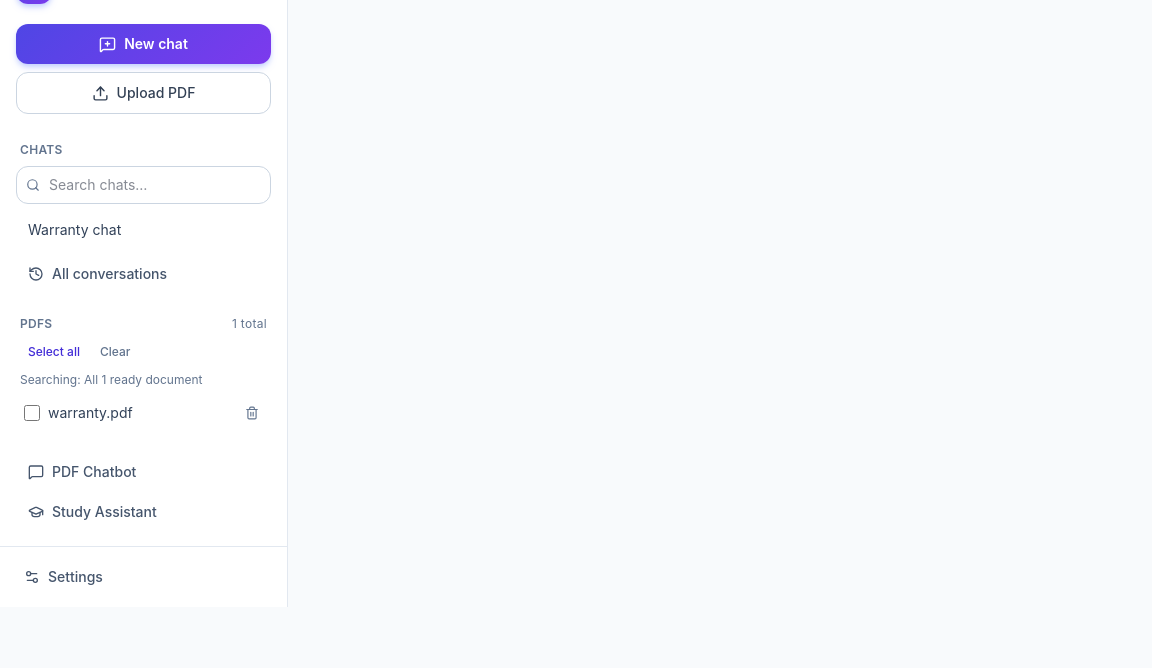
Sidebar settings › switches the theme and saves it
Click the button "Settings". click: (144, 577)
box: left=16, top=559, right=271, bottom=595
(page scrolled)
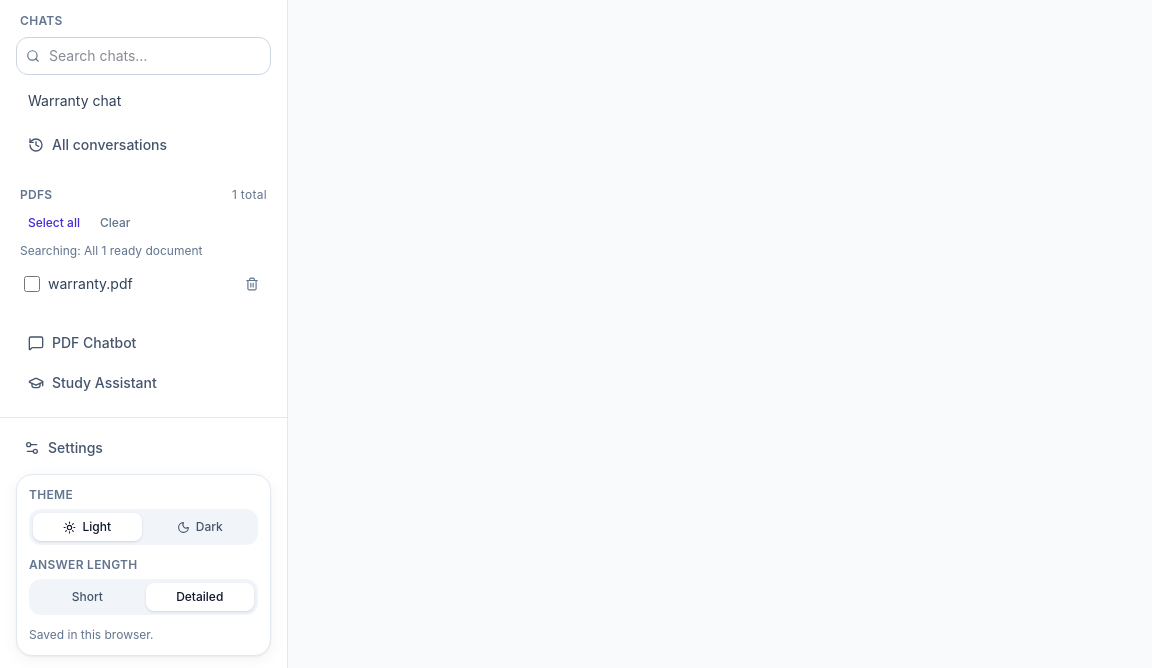
Click the button "Dark". click: (200, 527)
box: left=146, top=513, right=254, bottom=541
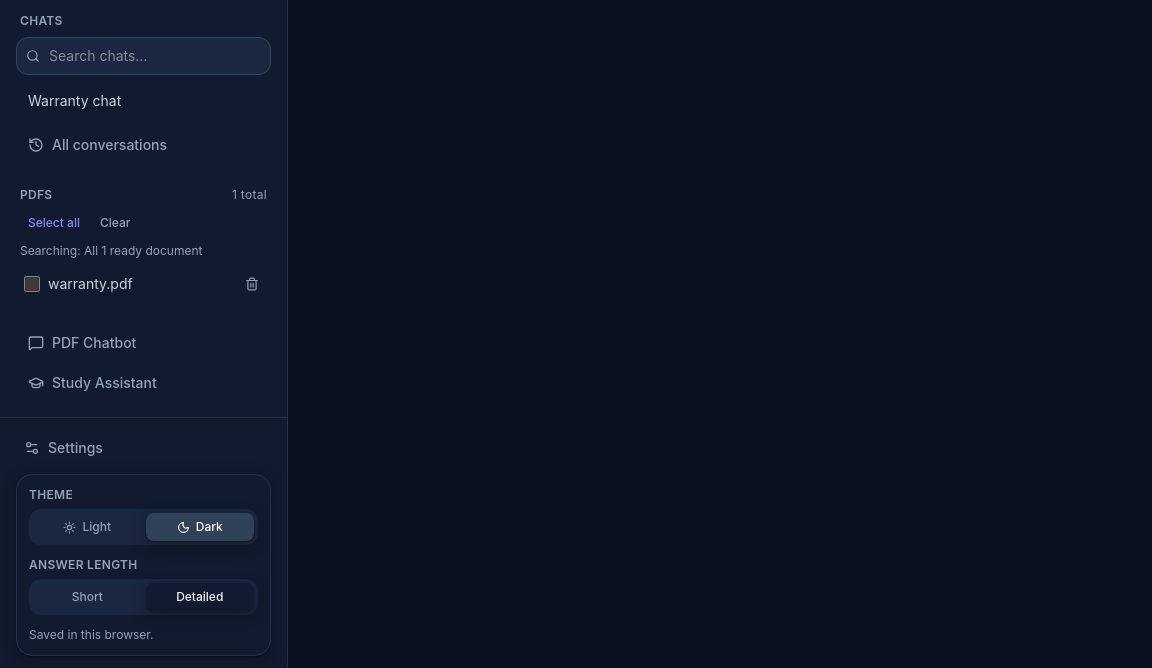
Check: the button "Dark" is pressed, box left=146, top=513, right=254, bottom=541
